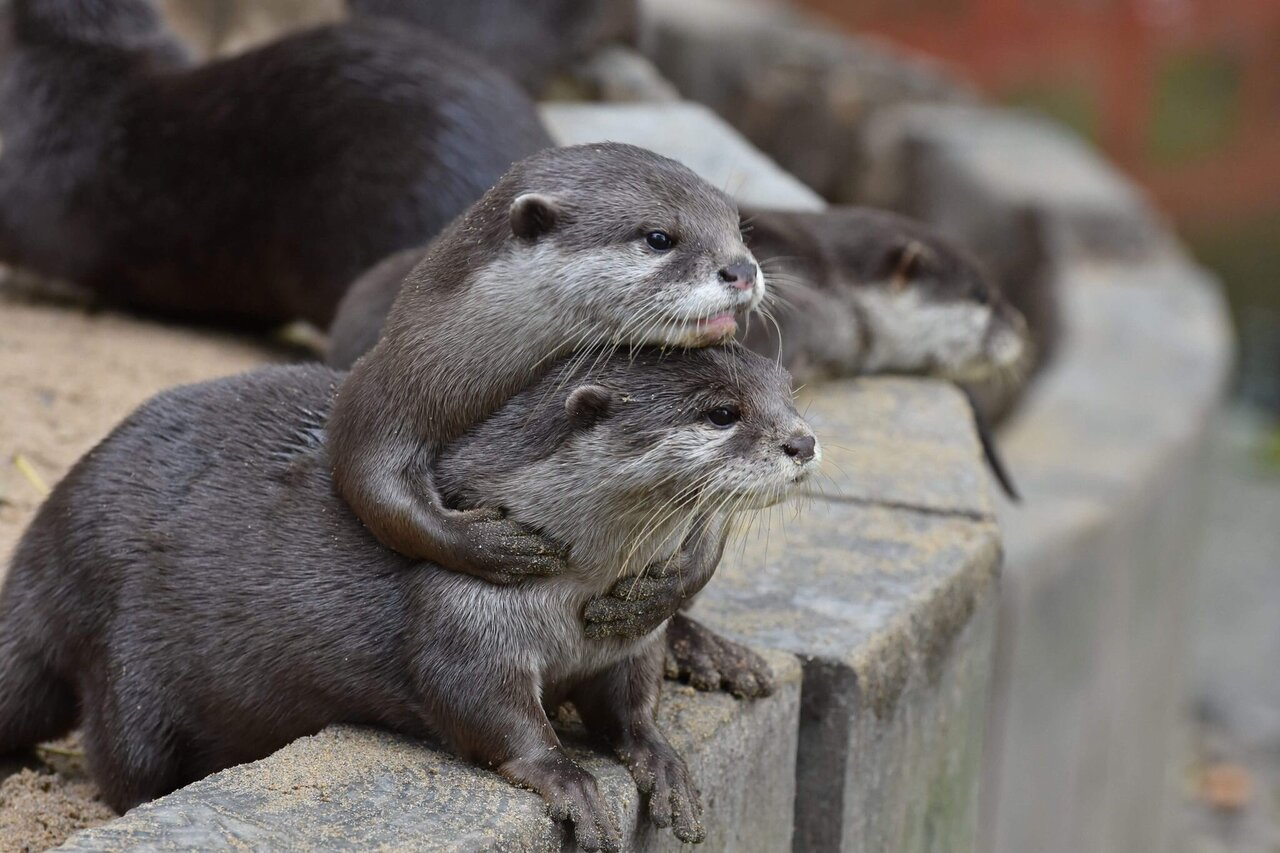otter: (9, 331, 785, 853), (317, 138, 777, 591)
